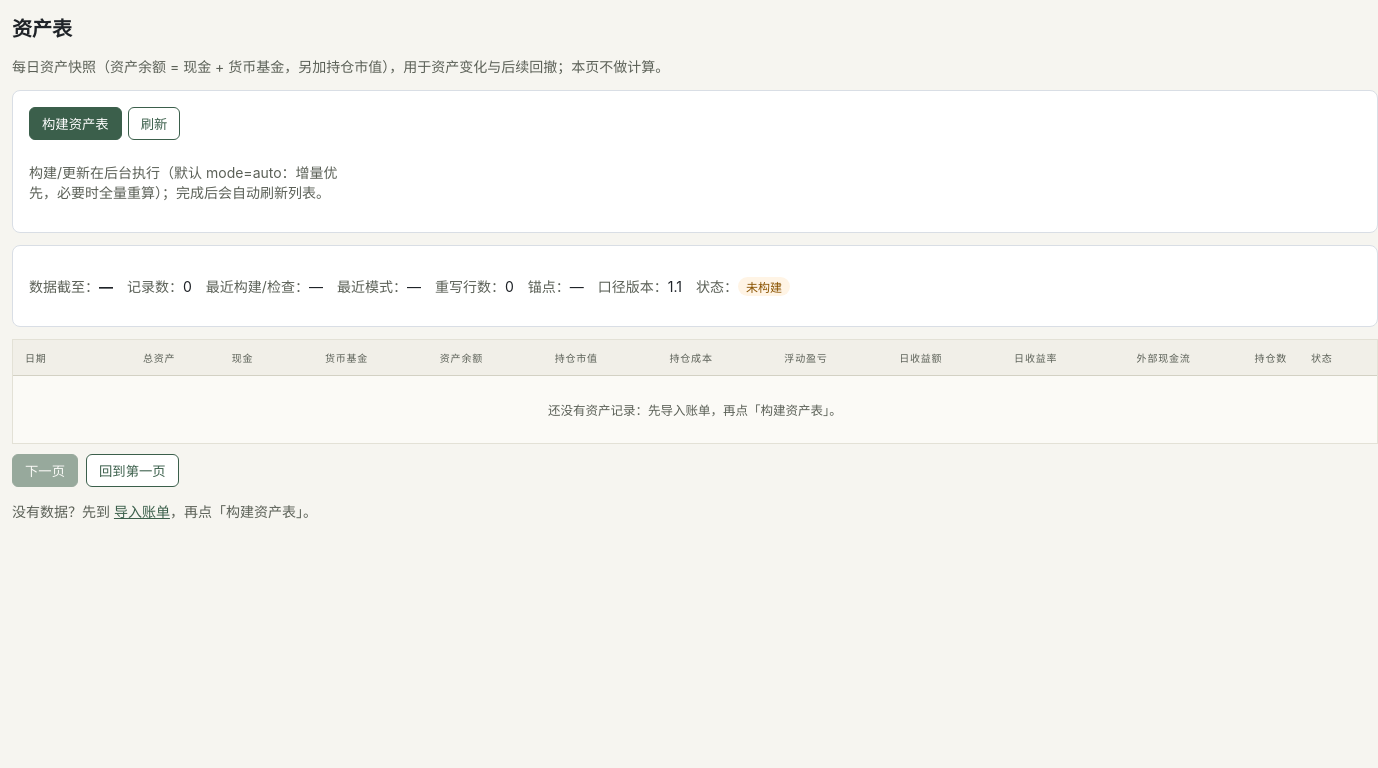
Assets 资产表页 › FT-03 增量提示：last_mode=incremental 展示重算天数与起点
The width and height of the screenshot is (1378, 768).
Step 1. Click the button "构建资产表" → [75, 124], box [29, 107, 122, 140]
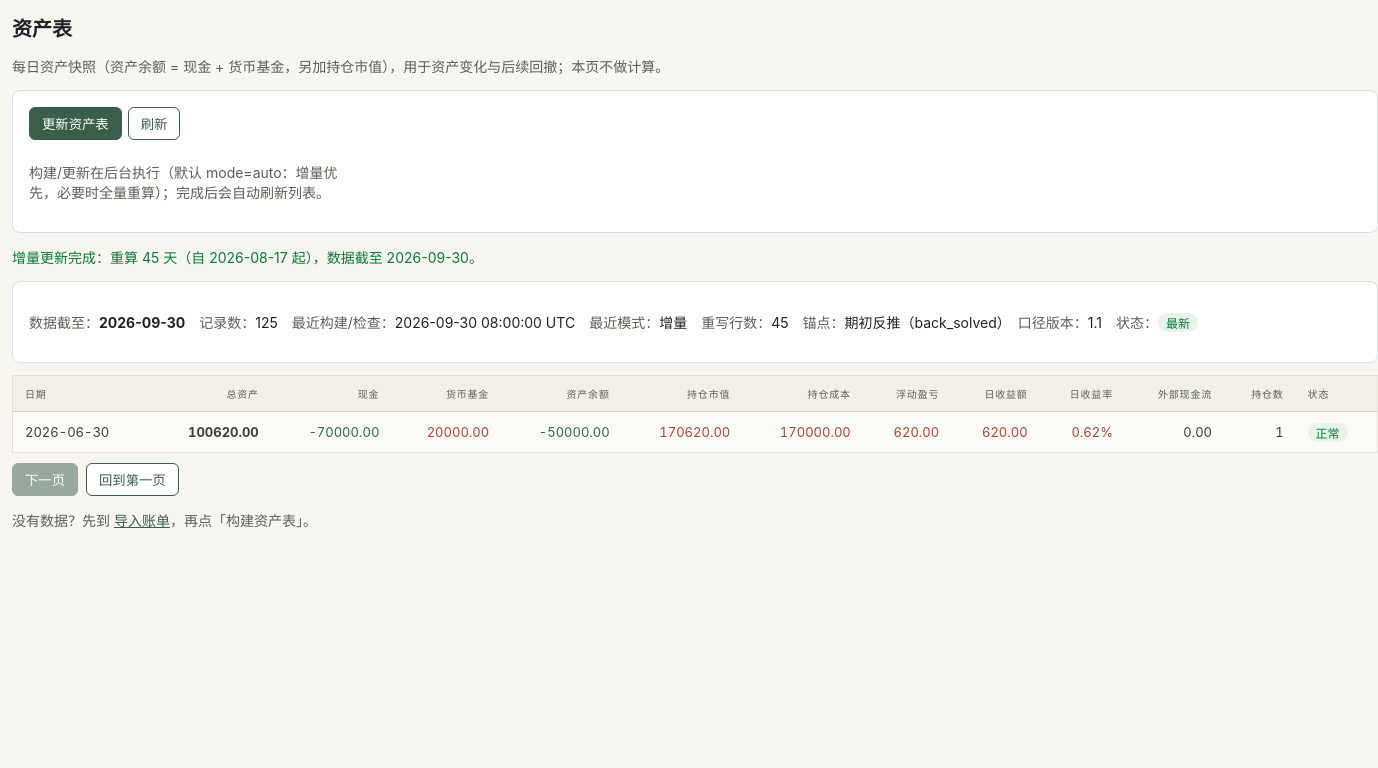
Now the text "增量更新完成：重算 45 天（自 2026-08-17 起），数据截至 2026-09-30。" is shown, box [12, 249, 483, 266]
